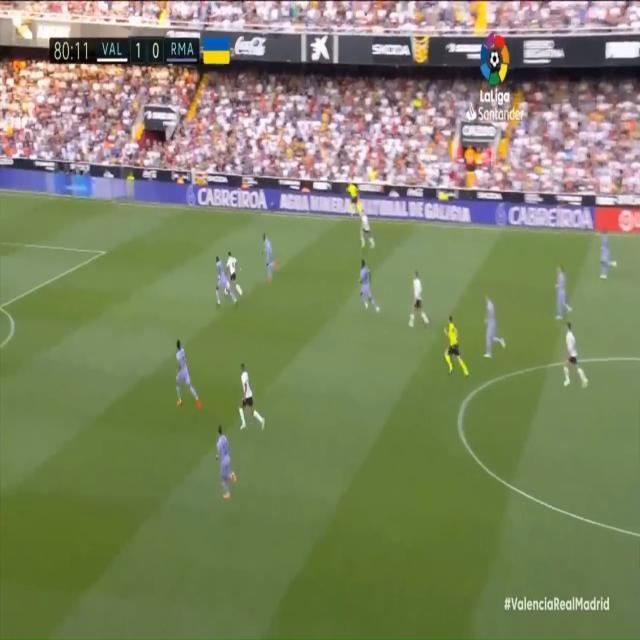ball: (224, 286, 229, 297)
player: (235, 357, 268, 433), (171, 334, 202, 412), (214, 420, 240, 503), (563, 315, 587, 393), (482, 291, 506, 357), (357, 258, 381, 317), (214, 254, 238, 310), (409, 265, 429, 331), (554, 261, 573, 324), (226, 243, 245, 301), (599, 225, 618, 280), (357, 206, 377, 250), (262, 230, 278, 278)
referee: (441, 309, 470, 380), (345, 171, 364, 221)
